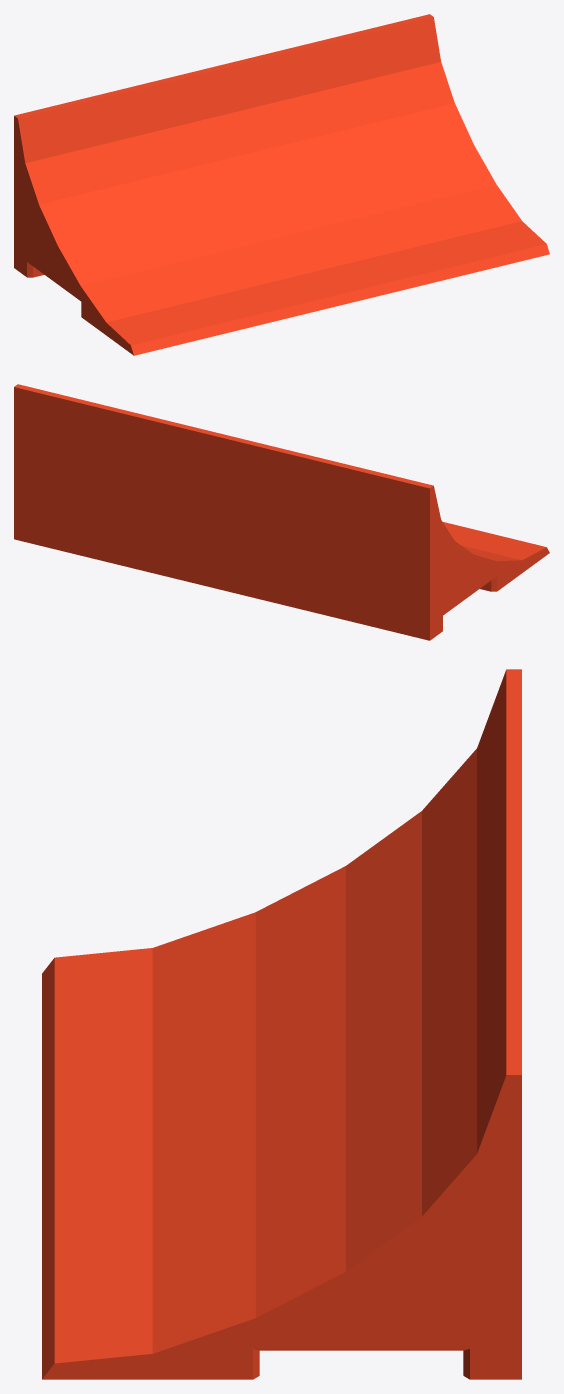
File: SM_Skate_Ramp_B_City.fbx
The picture shows the model from 3 angles, top to bottom: view 1: azimuth 30°, elevation 25°; view 2: azimuth 150°, elevation 25°; view 3: azimuth 270°, elevation 25°; orthographic projection. The views are drawn at different scales.
Parts seen in each view (by area): view 1: SM_Skate_Ramp_B_City; view 2: SM_Skate_Ramp_B_City; view 3: SM_Skate_Ramp_B_City.
Part boxes in pixels (box(x1,y1,x2,y2)): SM_Skate_Ramp_B_City: box(14, 14, 549, 355); SM_Skate_Ramp_B_City: box(14, 384, 549, 640); SM_Skate_Ramp_B_City: box(42, 669, 521, 1379).
Bounding box in the file's own units: 2 × 0.7 × 1.
